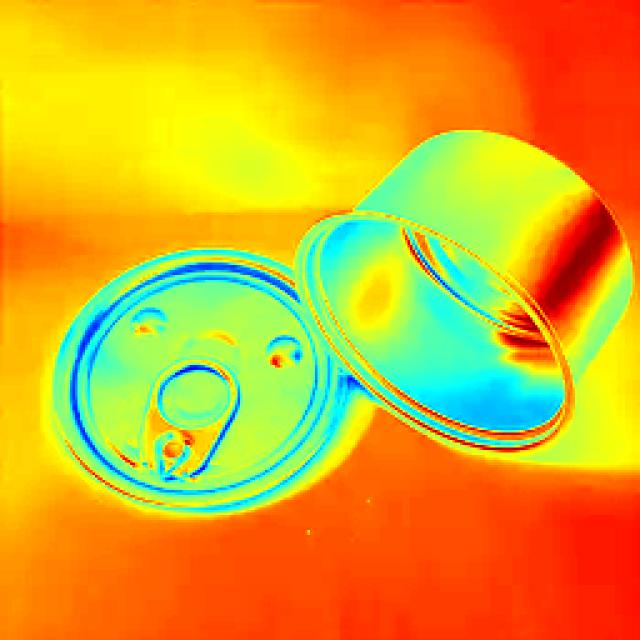Aluminium Food Cans: (90, 116, 578, 562)
